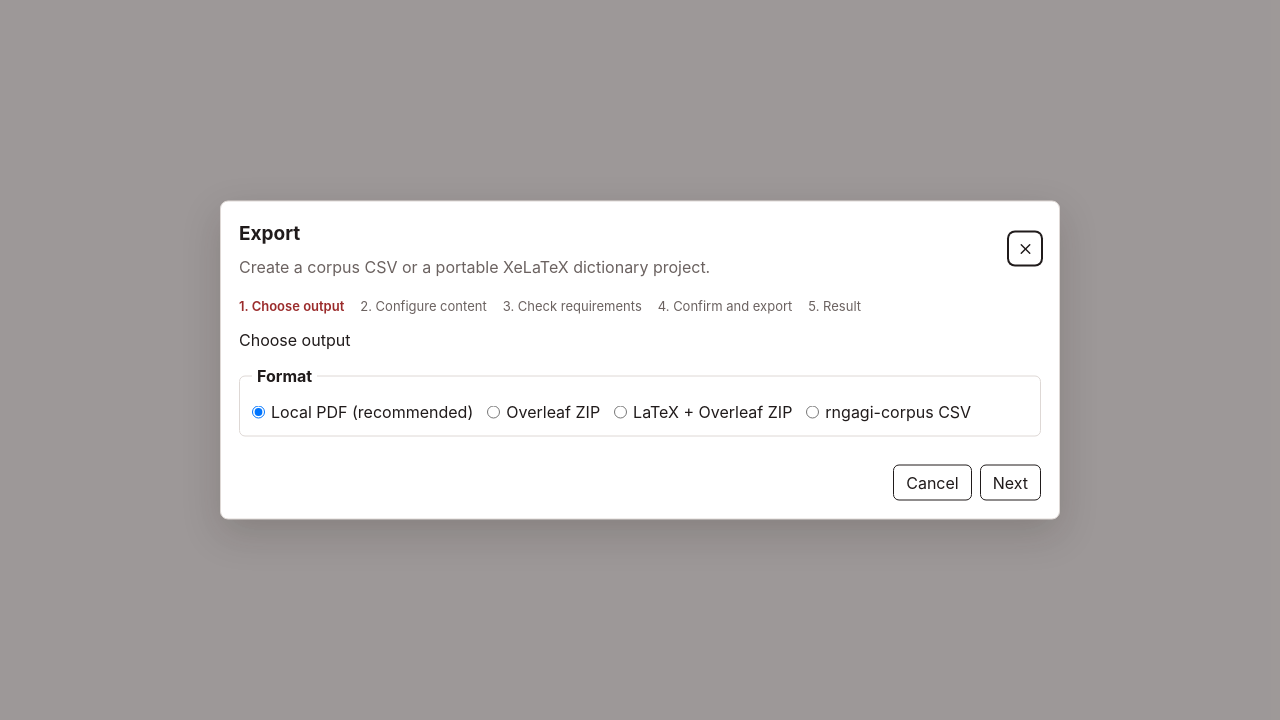
it: ExportDialog › defers dependency checks until the requirements step and skips TeX for sources
Expected: the radio button labelled "PDF" is checked, [252,405,265,418]
Click the radio button labelled "LaTeX": {"x": 621, "y": 412} [614,405,627,418]
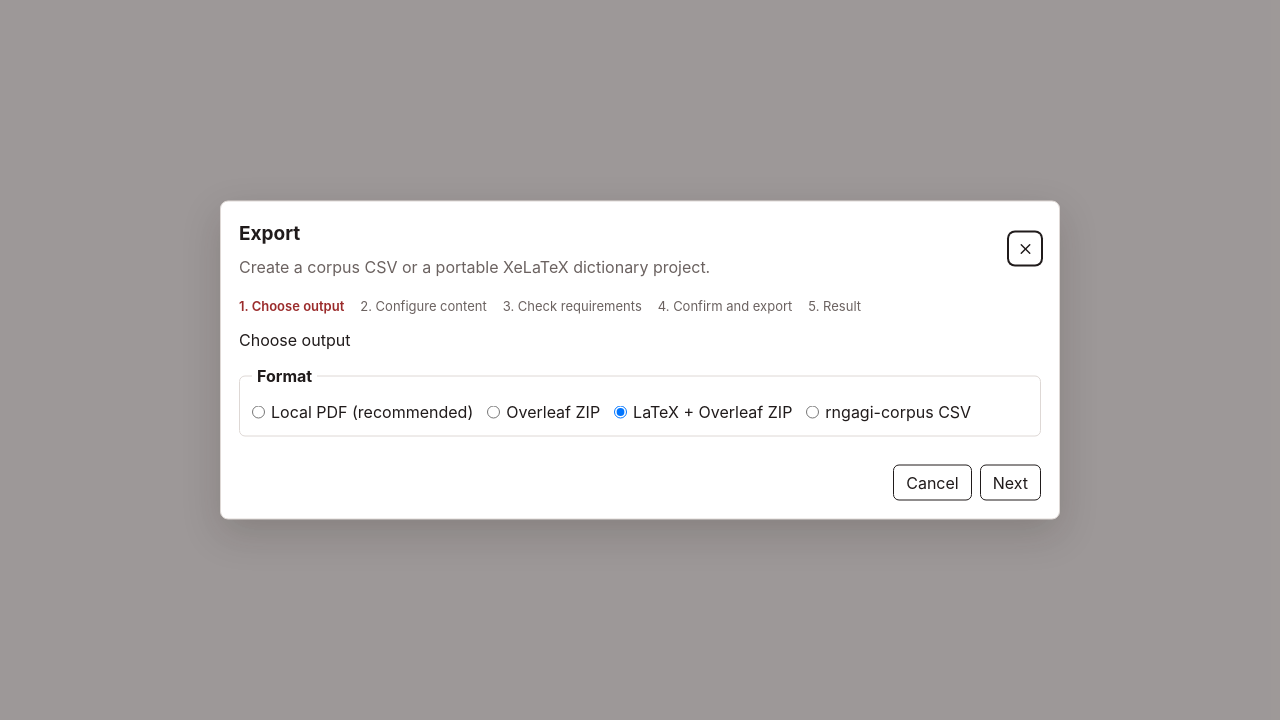
Click the button "Next": {"x": 1010, "y": 482} [980,464,1041,500]
(page scrolled)
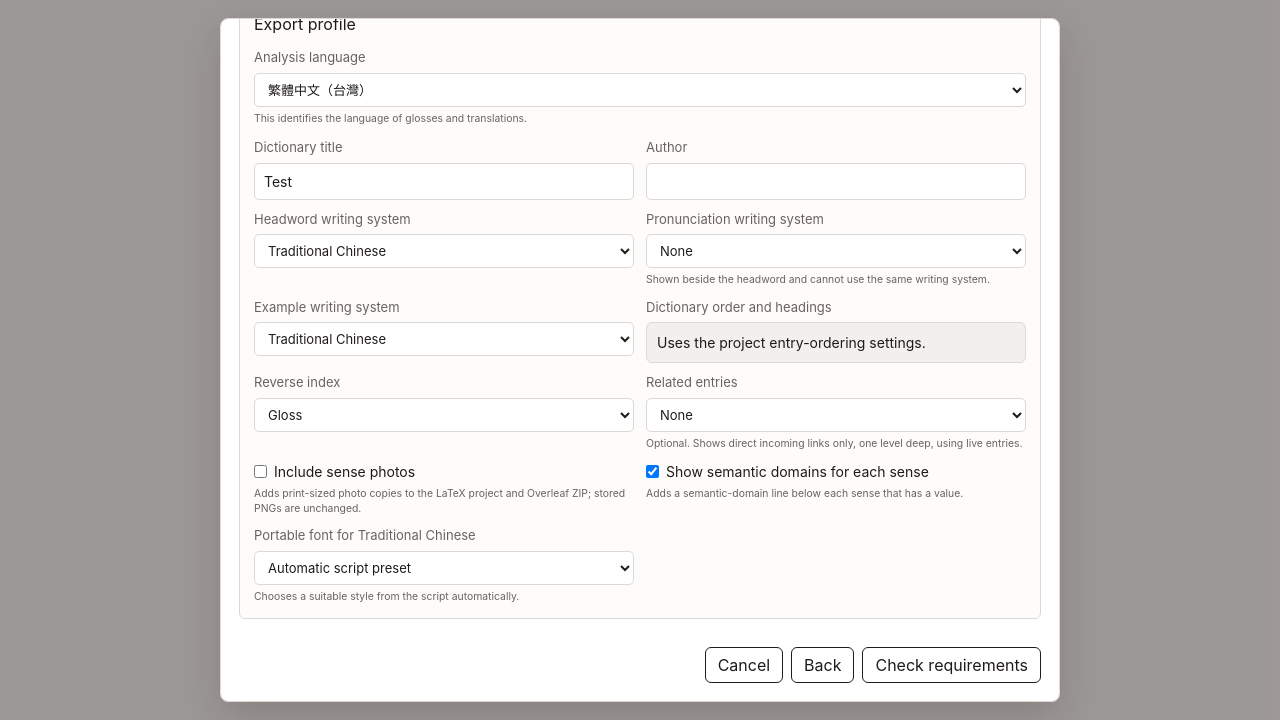
Click the button "Check requirements": {"x": 952, "y": 665} [862,647,1041,683]
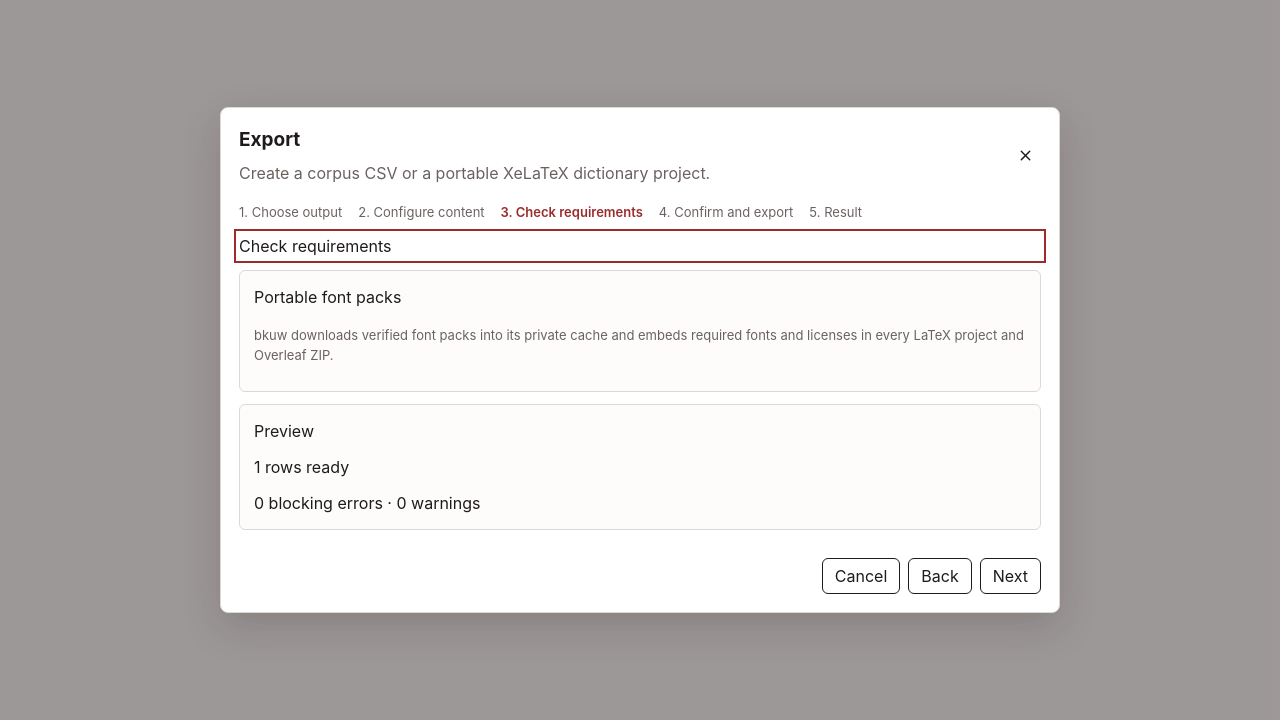
Now the text "1 rows ready" is shown, box [254,457,349,477]
